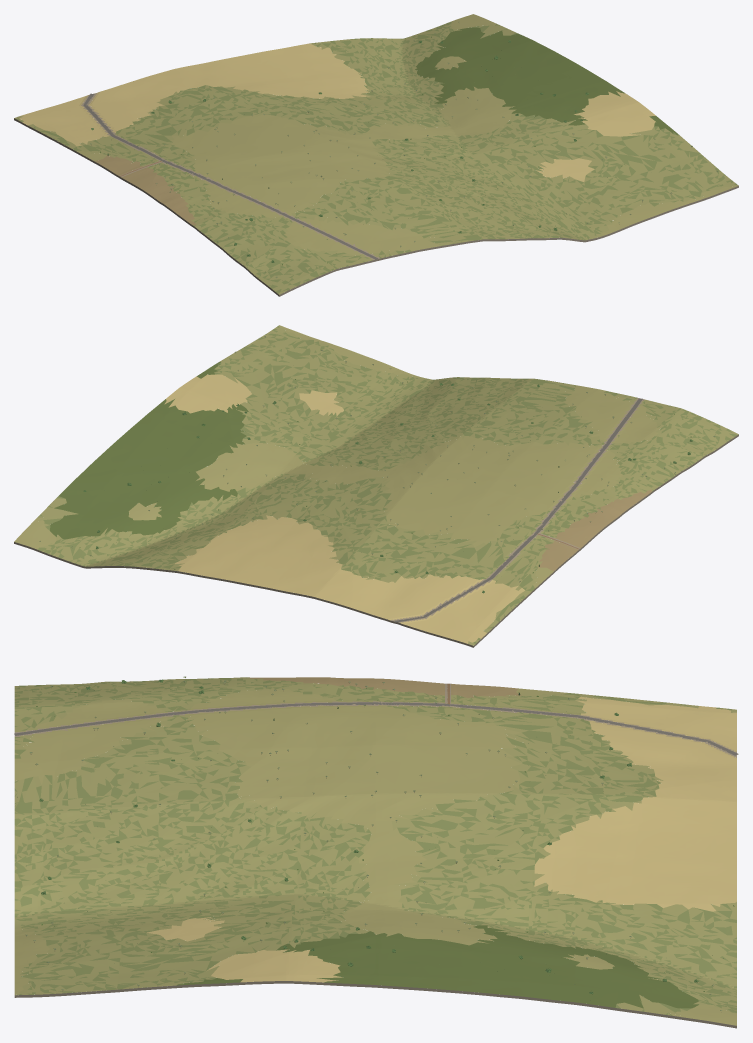
File: parca_+0_+1-yakin.glb
3 renders of one model, top to bottom at view 1: azimuth 30°, elevation 25°; view 2: azimuth 150°, elevation 25°; view 3: azimuth 270°, elevation 25°, orthographic. The views are drawn at different scales.
Visible parts, largest first — view 1: parca_+0_+1_arazi, parca_+0_+1_yollar, parca_+0_+1_bitkiler; view 2: parca_+0_+1_arazi, parca_+0_+1_yollar, parca_+0_+1_bitkiler; view 3: parca_+0_+1_arazi, parca_+0_+1_yollar, parca_+0_+1_bitkiler.
Part boxes in pixels (<box>): parca_+0_+1_arazi: <box>14,14,738,296</box>; parca_+0_+1_yollar: <box>83,93,378,259</box>; parca_+0_+1_bitkiler: <box>90,21,718,277</box>; parca_+0_+1_arazi: <box>14,325,738,647</box>; parca_+0_+1_yollar: <box>395,398,642,622</box>; parca_+0_+1_bitkiler: <box>39,336,715,593</box>; parca_+0_+1_arazi: <box>14,677,736,1028</box>; parca_+0_+1_yollar: <box>14,683,738,755</box>; parca_+0_+1_bitkiler: <box>17,676,734,1010</box>.
Bounding box in the file's own units: 1000 × 112 × 1004.
